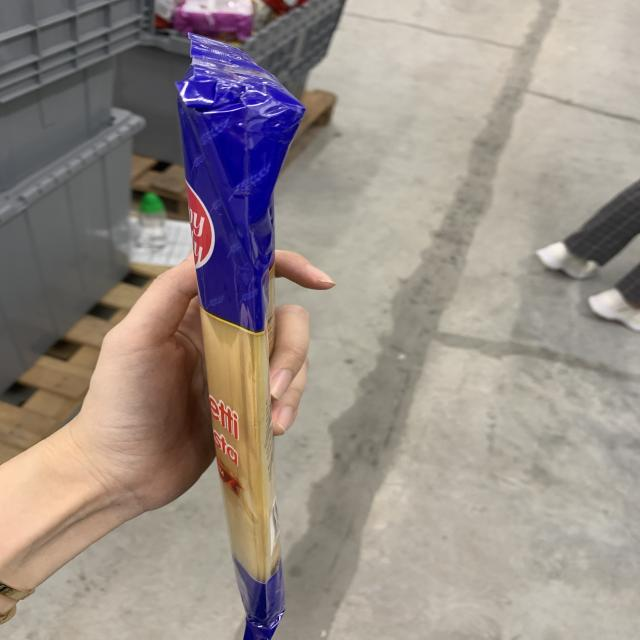object_name: (183, 46, 295, 633)
